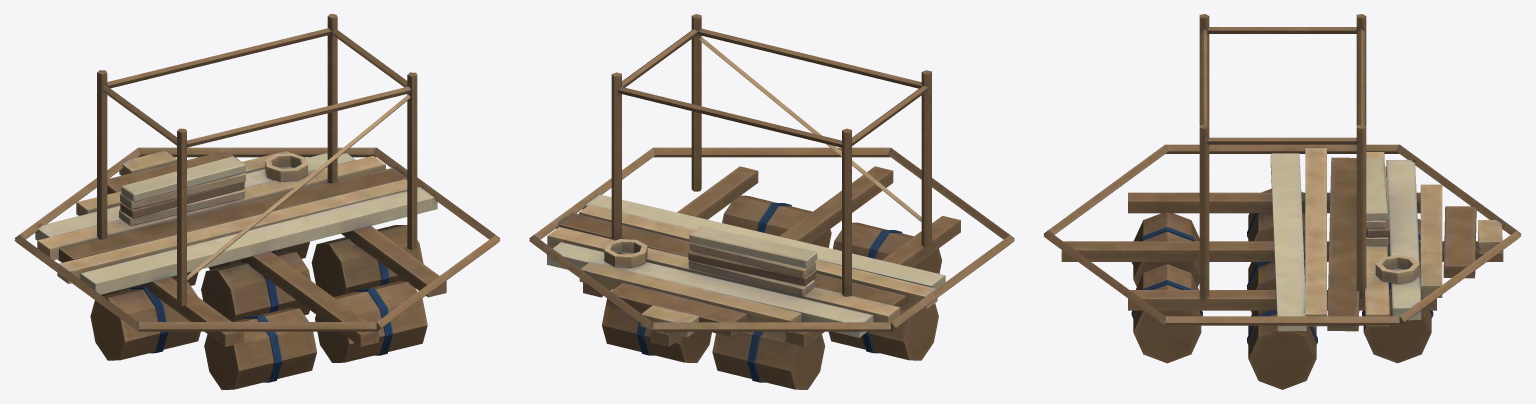
File: raft-yard-age1.glb
3 renders of one model, left to right at view 1: azimuth 30°, elevation 25°; view 2: azimuth 150°, elevation 25°; view 3: azimuth 270°, elevation 25°, orthographic.
Parts seen in each view (by area): view 1: raft-yard-age1; view 2: raft-yard-age1; view 3: raft-yard-age1.
Boxes of the visible parts, box(x1,y1,x2,y2) form: raft-yard-age1: box(14, 14, 500, 389); raft-yard-age1: box(529, 14, 1014, 389); raft-yard-age1: box(1043, 14, 1521, 389).
Size of the model in its own units: 1.59 by 1.05 by 1.83.
1 material, 1 textured.
